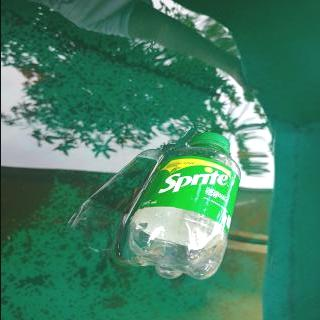bottle: (116, 130, 244, 280)
